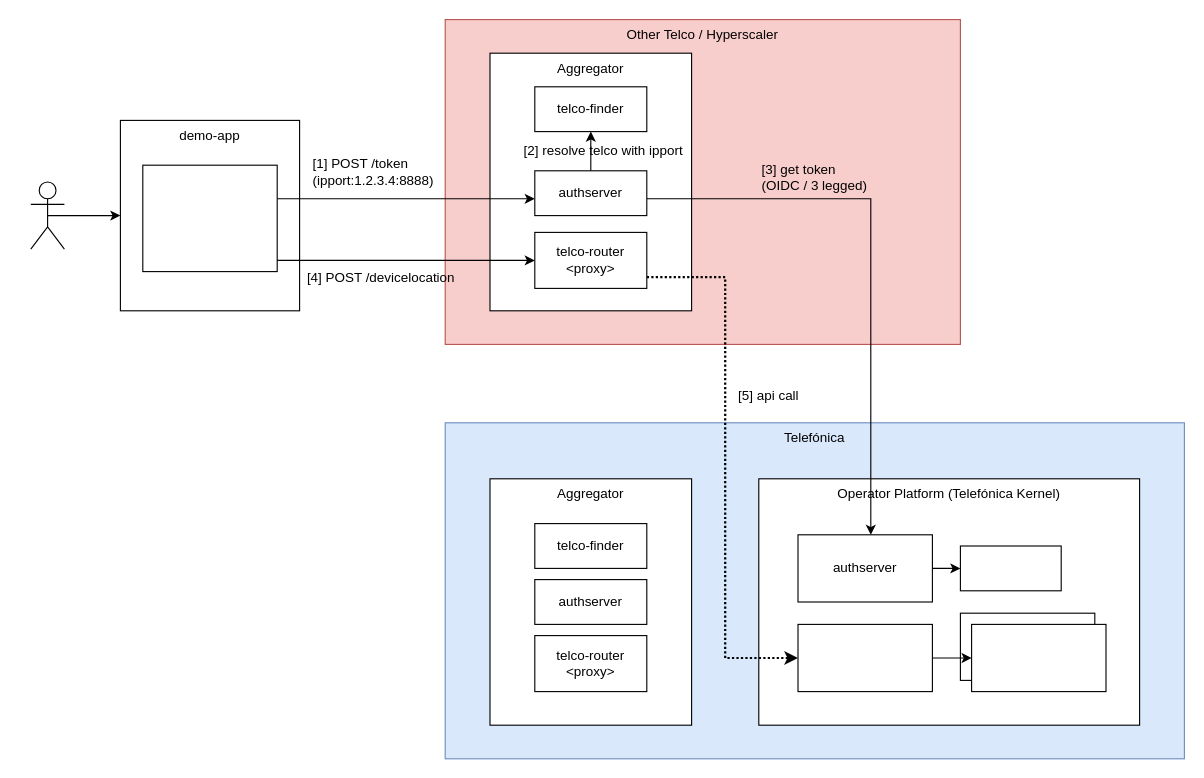
This 1204x778 diagram has some shape labels left out. Here are the shapes that lost their labels. From the top down, the centre of each, then its label:
At point (47, 215): "End User".
At point (209, 218): "camara-node-sdk".
At point (1010, 568): "user-consents".
At point (864, 657): "apigateway".
At point (1038, 657): "camara-apis".
